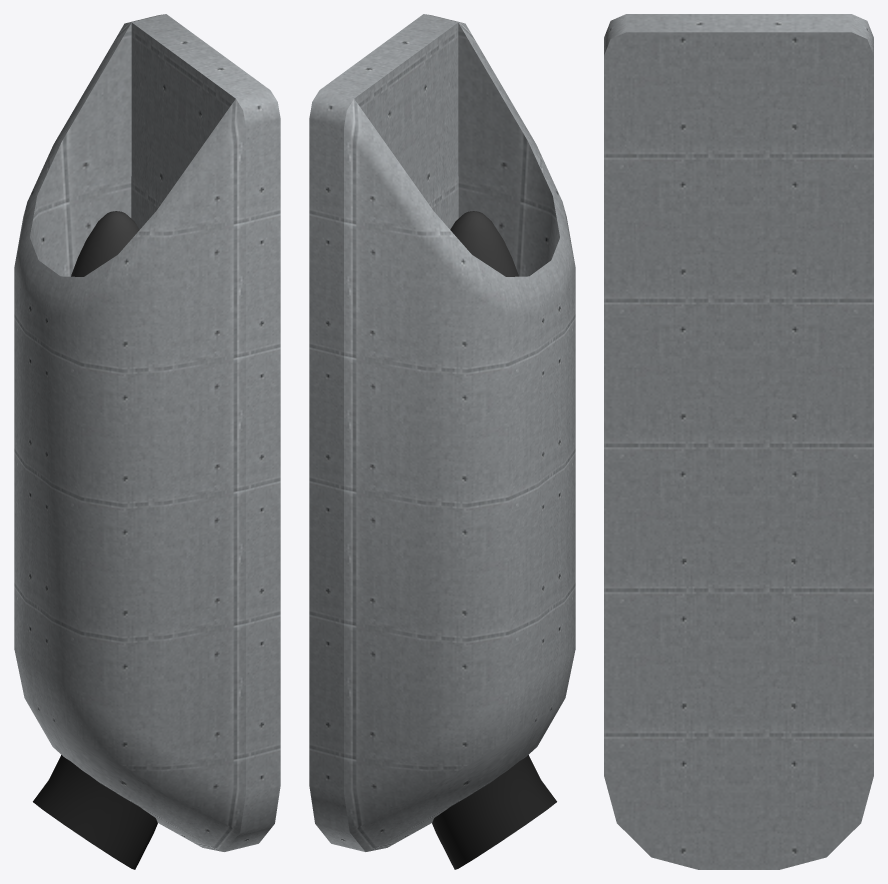
The model's file is turbo-generator.fbx.
The picture shows the model from 3 angles, left to right: view 1: azimuth 30°, elevation 25°; view 2: azimuth 150°, elevation 25°; view 3: azimuth 270°, elevation 25°; orthographic projection. The views are drawn at different scales.
Visible parts, largest first — view 1: generator, nozzle, ram-compressor; view 2: generator, nozzle, ram-compressor; view 3: generator.
Part boxes in pixels (box(x1,y1,x2,y2)): generator: box(14, 14, 280, 851); nozzle: box(33, 755, 157, 869); ram-compressor: box(71, 211, 139, 276); generator: box(309, 14, 575, 851); nozzle: box(432, 755, 556, 869); ram-compressor: box(450, 211, 518, 276); generator: box(604, 14, 873, 869).
Size of what is drawn, in the model's own units: 0.8559 by 3.58 by 1.03.
Materials: 1 (1 with a texture image).
